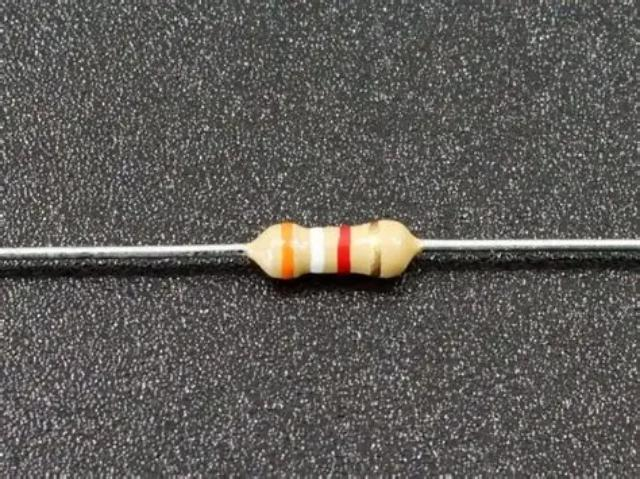gold: (368, 224, 381, 276)
orange: (280, 222, 294, 280)
red: (338, 223, 350, 273)
resistor: (233, 196, 435, 299)
white: (310, 227, 325, 273)
